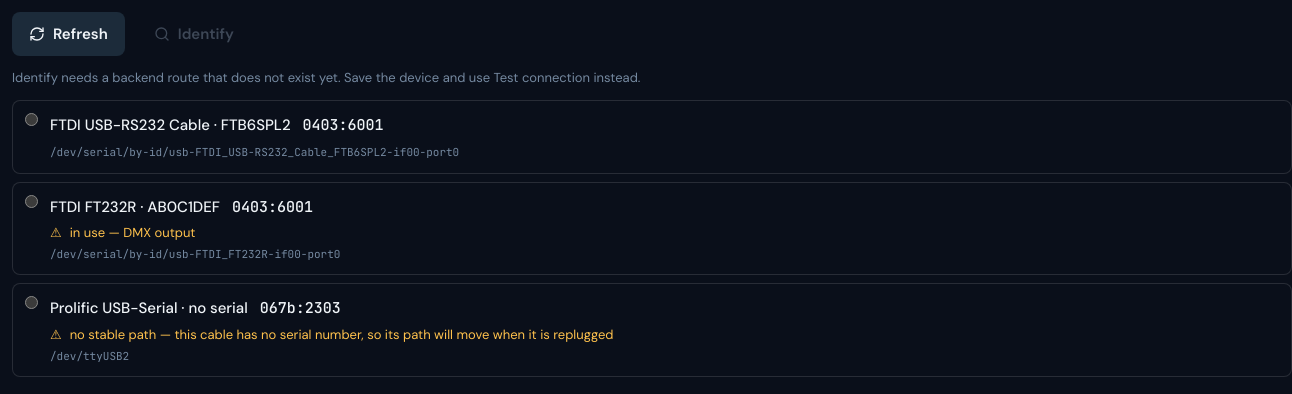
Test: SerialPicker › re-enumerates on Refresh, because a list captured at page load is wrong within a minute
Check: the radio button labelled "FTDI USB-RS232 Cable" is shown, box [25, 112, 38, 126]
What coordinates should you click on to do the following:
click the button "Refresh"
I would click on:
 (68, 34)
Its box is [12, 12, 125, 56].
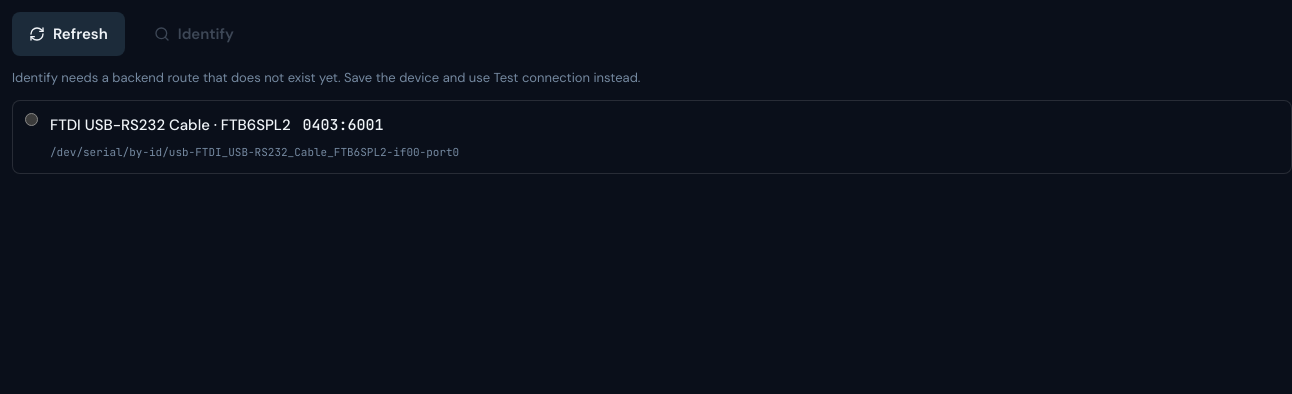
Check: the text "in use — DMX output" is gone
